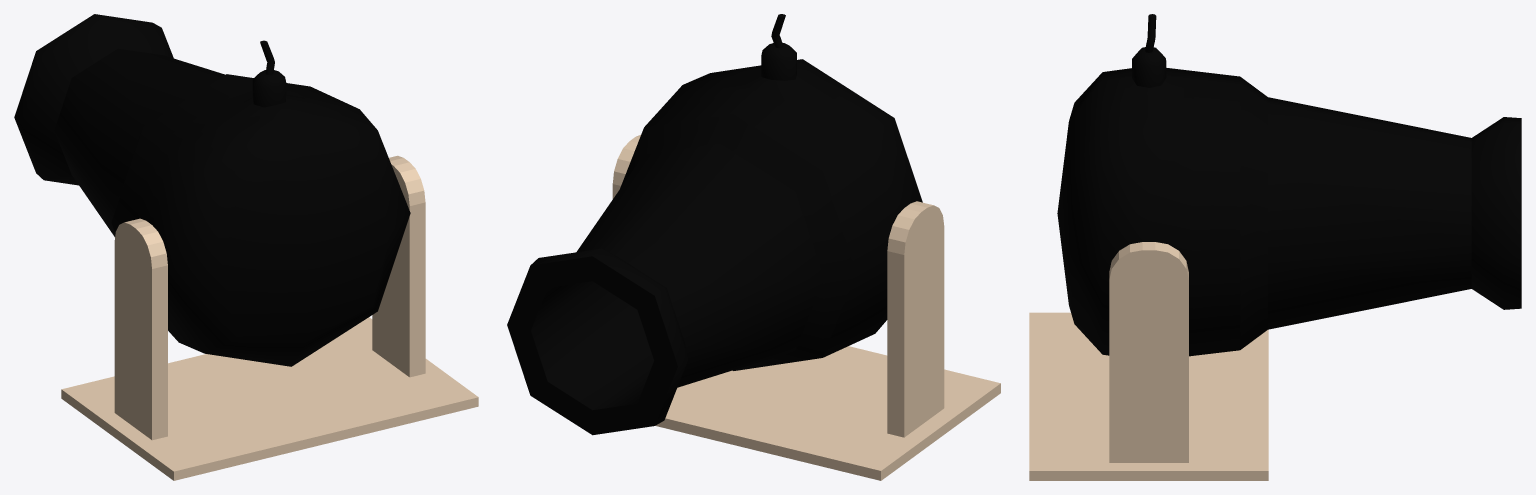
File: top.fbx
3 views of the same model, side by side, from view 1: azimuth 30°, elevation 25°; view 2: azimuth 150°, elevation 25°; view 3: azimuth 270°, elevation 25° (orthographic). The views are drawn at different scales.
Visible parts, largest first — view 1: top, top tutucu; view 2: top, top tutucu; view 3: top, top tutucu.
Boxes of the visible parts, bbox=[...] form: top: bbox=[14, 14, 410, 366]; top tutucu: bbox=[61, 155, 478, 480]; top: bbox=[507, 14, 922, 435]; top tutucu: bbox=[612, 135, 1000, 480]; top: bbox=[1057, 14, 1521, 356]; top tutucu: bbox=[1029, 242, 1268, 480].
Size of the model in its own units: 103 by 117 by 136.
